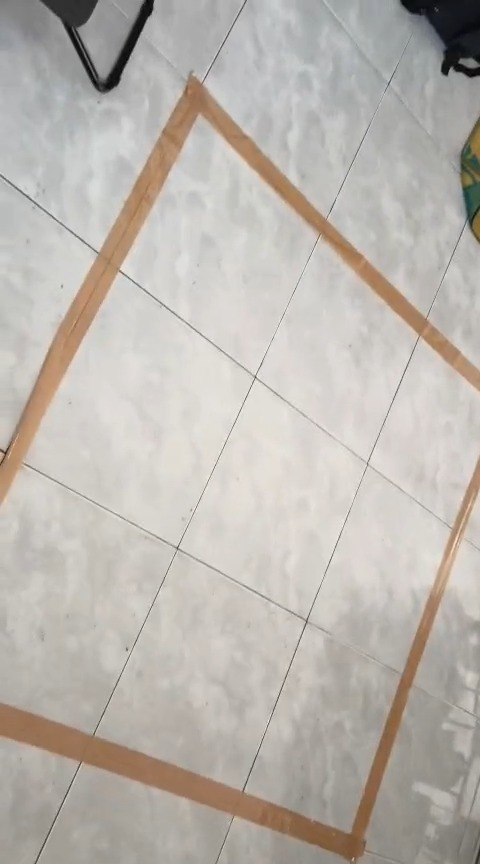floor marking: (0, 75, 479, 502), (0, 456, 479, 861)
